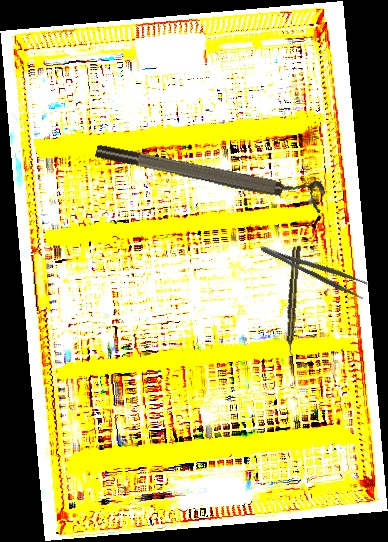Dressing Forceps: (259, 235, 370, 301)
Fixation Ring: (93, 130, 328, 214)
Handpiece: (284, 244, 302, 357)
